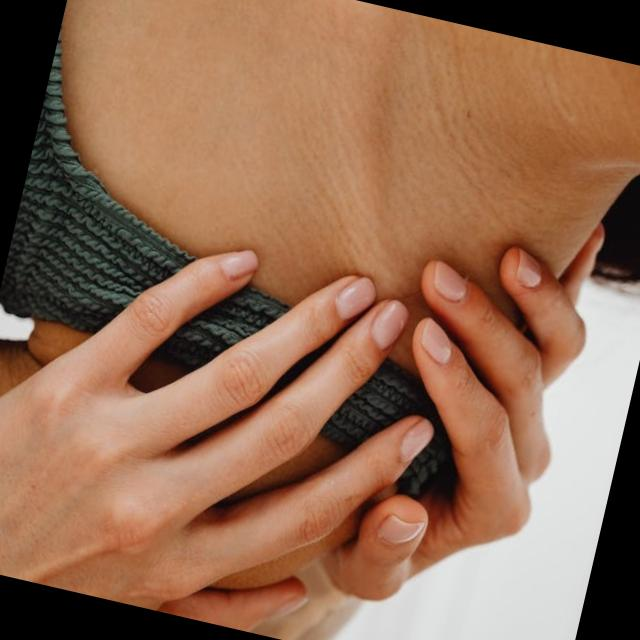Nail: (369, 300, 404, 349), (333, 277, 373, 319), (432, 260, 466, 303), (376, 515, 424, 545), (398, 420, 430, 463), (419, 320, 449, 365), (266, 593, 307, 625), (214, 250, 257, 280), (515, 249, 541, 288)
